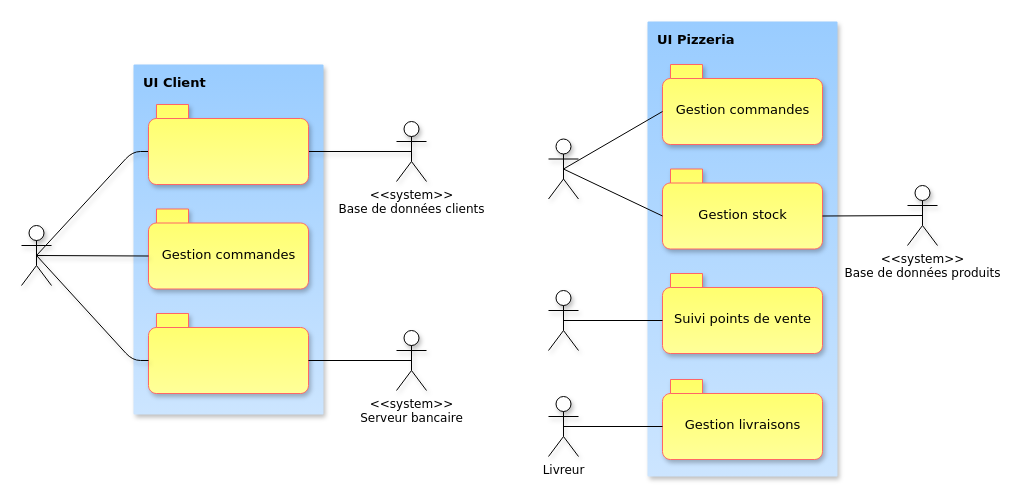
Image size: 1018x500. Some labels were removed from this diagram. The shapes that lost their labels are listed below. From the top down, each one's centre as x and y in pixels, then its label:
(x=229, y=146): Gestion Authentification
(x=564, y=170): Pizzaiolo
(x=37, y=256): Client
(x=564, y=322): Directeur
(x=229, y=354): Gestion Règlement
